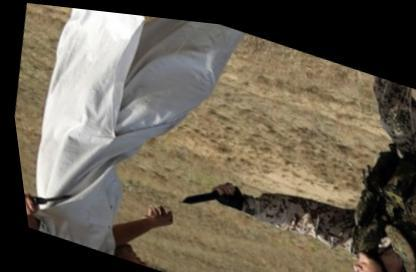knife: (170, 162, 240, 222)
